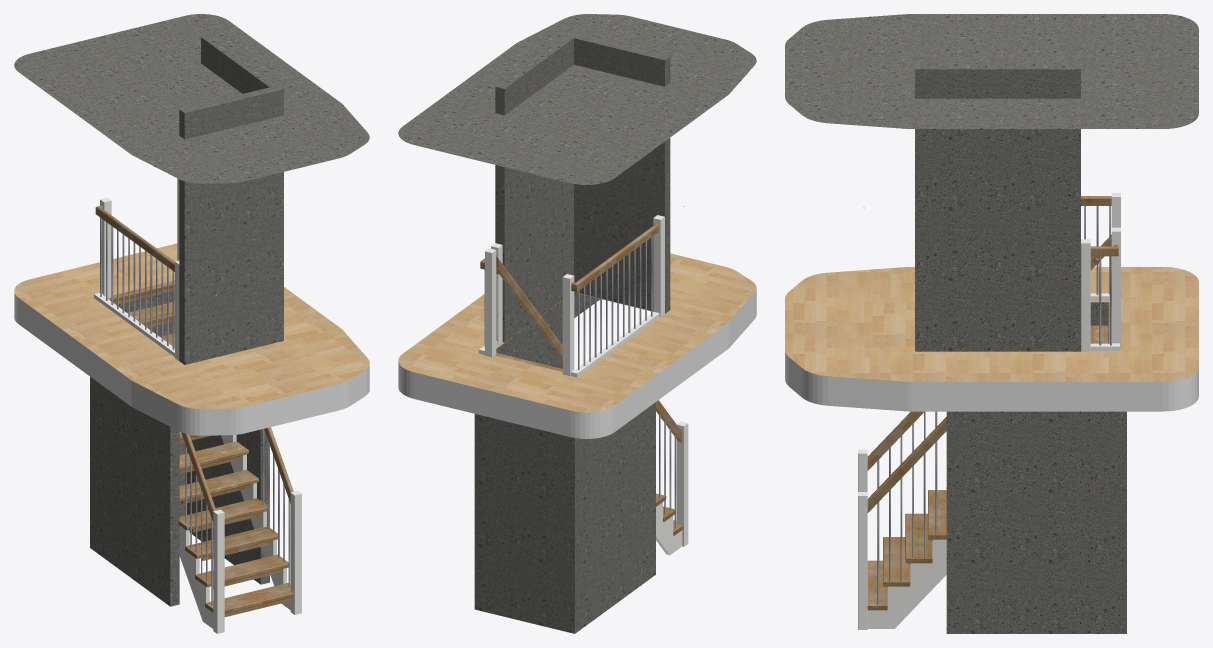
3 renders of one model, left to right at view 1: azimuth 30°, elevation 25°; view 2: azimuth 150°, elevation 25°; view 3: azimuth 270°, elevation 25°, orthographic. The views are drawn at different scales.
Visible parts, largest first — view 1: _x0023_BEGIN_WALLbeton1.jpg1110_x002C_3, _x0023_OBJECT3Dbeton1.jpg1111, _x0023_OBJECT3Dcon_parkett.jpg1111, _x0023_OBJECT3D0_x002C_90_x002C_90_x002C_91, _x0023_TREADcon_ek.jpg1111, _x0023_BALUSTERcon_rostf.jpg1111, _x0023_POST0_x002C_980_x002C_980_x002C_951, _x0023_STRING0_x002C_980_x002C_980_x002C_951, _x0023_HANDRAILcon_ek.jpg1111, _x0023_BEGIN_PLATFORMcon_parkett.jpg1111, _x0023_LISTcon_ek.jpg1111, _x0023_BOTTOMRAIL0_x002C_980_x002C_980_x002C_951; view 2: _x0023_BEGIN_WALLbeton1.jpg1110_x002C_3, _x0023_OBJECT3Dbeton1.jpg1111, _x0023_OBJECT3Dcon_parkett.jpg1111, _x0023_OBJECT3D0_x002C_90_x002C_90_x002C_91, _x0023_POST0_x002C_980_x002C_980_x002C_951, _x0023_BALUSTERcon_rostf.jpg1111, _x0023_HANDRAILcon_ek.jpg1111, _x0023_BEGIN_OPENINGbeton1.jpg1111, _x0023_BOTTOMRAIL0_x002C_980_x002C_980_x002C_951, _x0023_STRING0_x002C_980_x002C_980_x002C_951, _x0023_TREADcon_ek.jpg1111; view 3: _x0023_BEGIN_WALLbeton1.jpg1110_x002C_3, _x0023_OBJECT3Dbeton1.jpg1111, _x0023_OBJECT3Dcon_parkett.jpg1111, _x0023_OBJECT3D0_x002C_90_x002C_90_x002C_91, _x0023_TREADcon_ek.jpg1111, _x0023_POST0_x002C_980_x002C_980_x002C_951, _x0023_BALUSTERcon_rostf.jpg1111, _x0023_HANDRAILcon_ek.jpg1111, _x0023_STRING0_x002C_980_x002C_980_x002C_951, _x0023_BEGIN_PLATFORMcon_parkett.jpg1111.
Boxes of the visible parts, x1,y1,x2,y2 form: _x0023_BEGIN_WALLbeton1.jpg1110_x002C_3: (90, 35, 283, 606); _x0023_OBJECT3Dbeton1.jpg1111: (14, 14, 369, 183); _x0023_OBJECT3Dcon_parkett.jpg1111: (14, 243, 369, 409); _x0023_OBJECT3D0_x002C_90_x002C_90_x002C_91: (14, 293, 369, 435); _x0023_TREADcon_ek.jpg1111: (107, 280, 293, 613); _x0023_BALUSTERcon_rostf.jpg1111: (100, 218, 290, 605); _x0023_POST0_x002C_980_x002C_980_x002C_951: (100, 178, 301, 633); _x0023_STRING0_x002C_980_x002C_980_x002C_951: (179, 435, 290, 628); _x0023_HANDRAILcon_ek.jpg1111: (95, 205, 293, 521); _x0023_BEGIN_PLATFORMcon_parkett.jpg1111: (194, 343, 297, 379); _x0023_LISTcon_ek.jpg1111: (113, 287, 290, 616); _x0023_BOTTOMRAIL0_x002C_980_x002C_980_x002C_951: (94, 293, 174, 356); _x0023_BEGIN_WALLbeton1.jpg1110_x002C_3: (474, 32, 670, 633); _x0023_OBJECT3Dbeton1.jpg1111: (398, 14, 756, 184); _x0023_OBJECT3Dcon_parkett.jpg1111: (398, 253, 756, 412); _x0023_OBJECT3D0_x002C_90_x002C_90_x002C_91: (398, 289, 756, 438); _x0023_POST0_x002C_980_x002C_980_x002C_951: (485, 215, 688, 546); _x0023_BALUSTERcon_rostf.jpg1111: (484, 206, 684, 528); _x0023_HANDRAILcon_ek.jpg1111: (480, 224, 682, 442); _x0023_BEGIN_OPENINGbeton1.jpg1111: (496, 292, 600, 358); _x0023_BOTTOMRAIL0_x002C_980_x002C_980_x002C_951: (478, 312, 659, 377); _x0023_STRING0_x002C_980_x002C_980_x002C_951: (656, 502, 682, 555); _x0023_TREADcon_ek.jpg1111: (495, 353, 683, 535); _x0023_BEGIN_WALLbeton1.jpg1110_x002C_3: (915, 15, 1126, 633); _x0023_OBJECT3Dbeton1.jpg1111: (785, 14, 1198, 128); _x0023_OBJECT3Dcon_parkett.jpg1111: (785, 267, 1198, 381); _x0023_OBJECT3D0_x002C_90_x002C_90_x002C_91: (785, 351, 1198, 411); _x0023_TREADcon_ek.jpg1111: (867, 302, 1109, 610); _x0023_POST0_x002C_980_x002C_980_x002C_951: (858, 193, 1120, 629); _x0023_BALUSTERcon_rostf.jpg1111: (863, 206, 1111, 604); _x0023_HANDRAILcon_ek.jpg1111: (867, 196, 1118, 512); _x0023_STRING0_x002C_980_x002C_980_x002C_951: (867, 539, 946, 628); _x0023_BEGIN_PLATFORMcon_parkett.jpg1111: (864, 302, 914, 346).
Size of what is drawn, in the model's own units: 2.28 by 5.21 by 3.46.
Materials: 15 (10 with a texture image).
